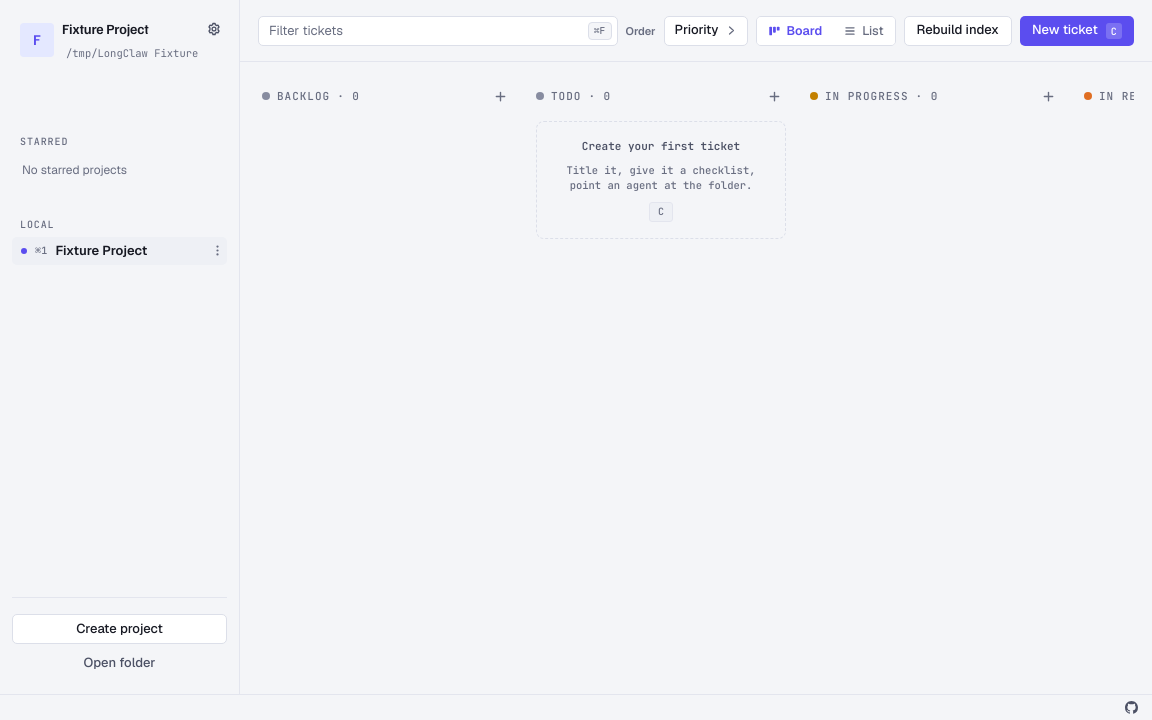
it: optimistic create, write feedback, and undo (V0-17) › sends the priority chosen in quick create, and shows it before the write returns
The width and height of the screenshot is (1152, 720).
Expected: the button "Board" is shown, x1=758 y1=16 x2=833 y2=44
Click the button "New ticketC". click: (1077, 30)
box: x1=1020 y1=16 x2=1134 y2=46
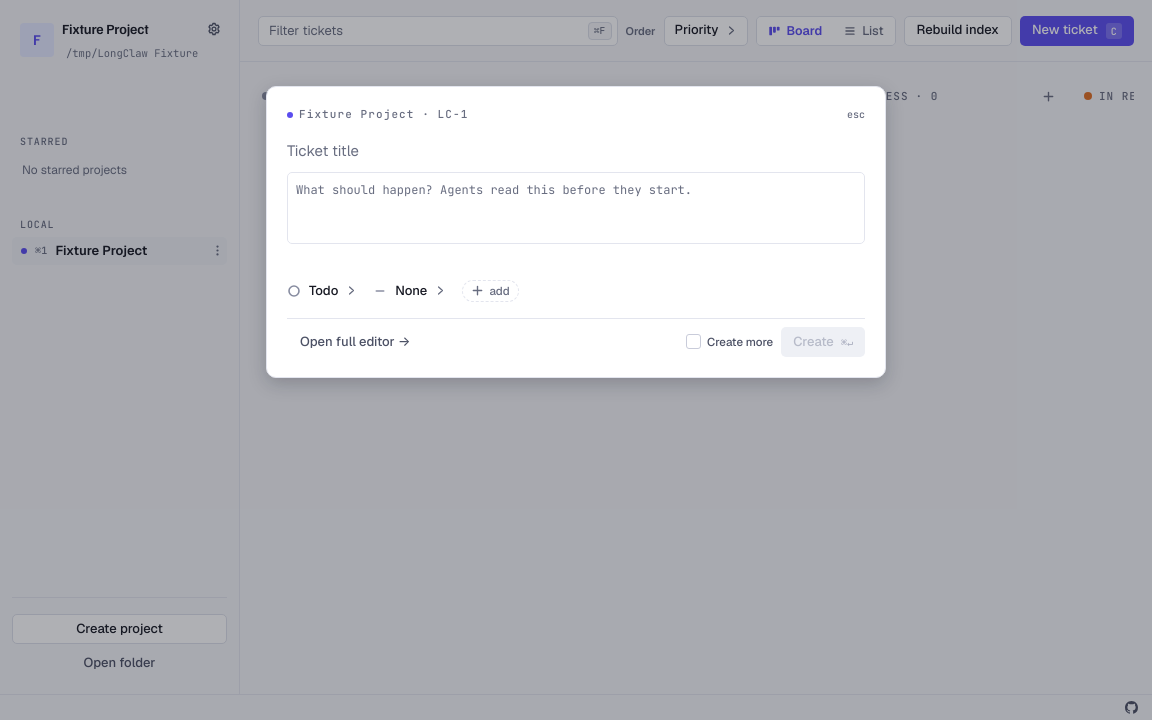
Type "Prove the round trip" into the field labelled "title". click: (576, 150)
box: x1=287 y1=141 x2=865 y2=160
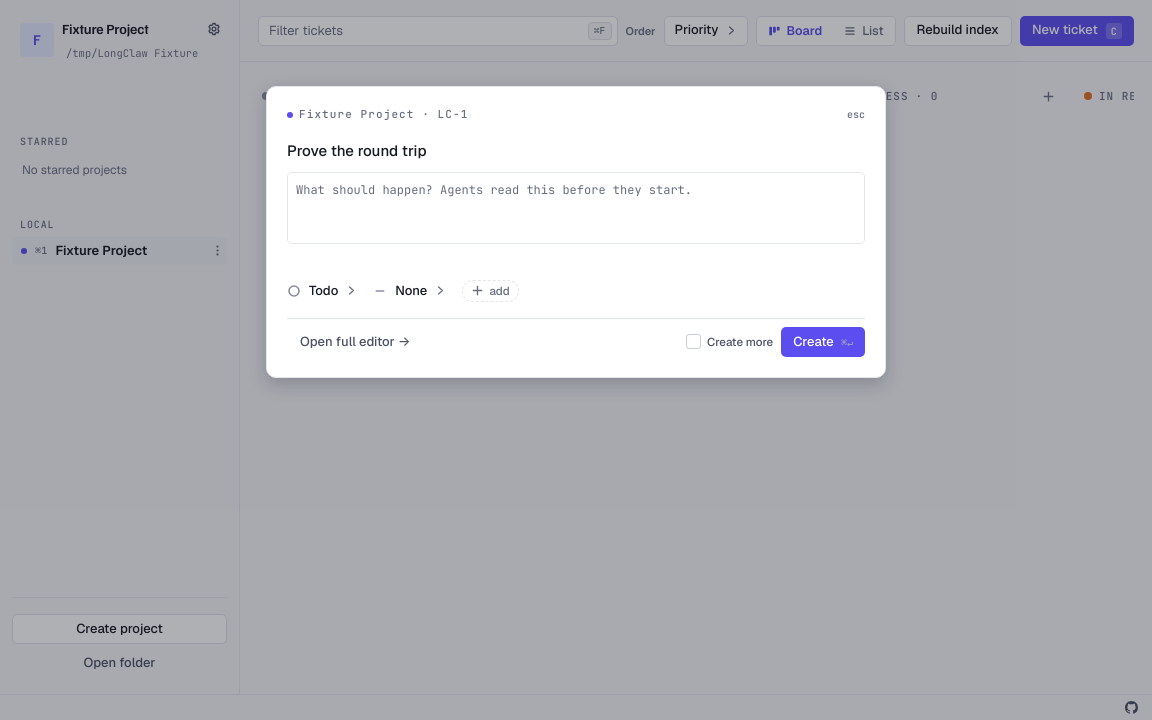
Click the button with aria-label "Priority: ". click: (410, 291)
box: x1=373 y1=276 x2=446 y2=306
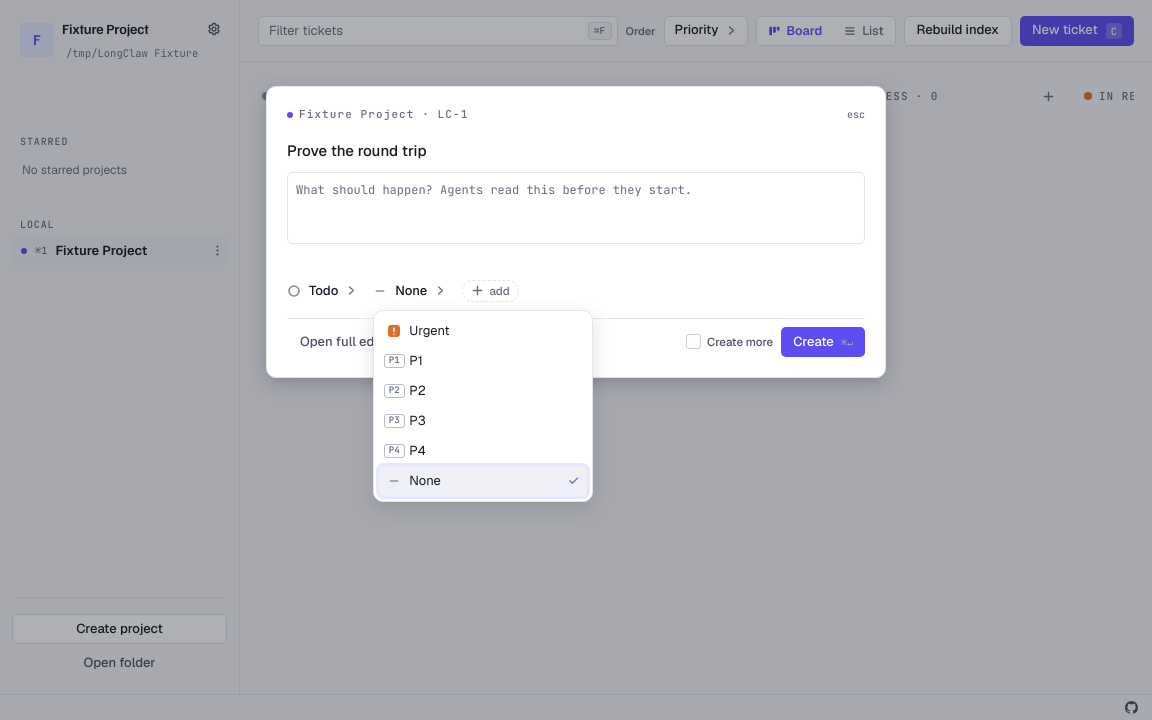
Click the menu item "Urgent". click: (483, 331)
box: x1=379 y1=316 x2=587 y2=346
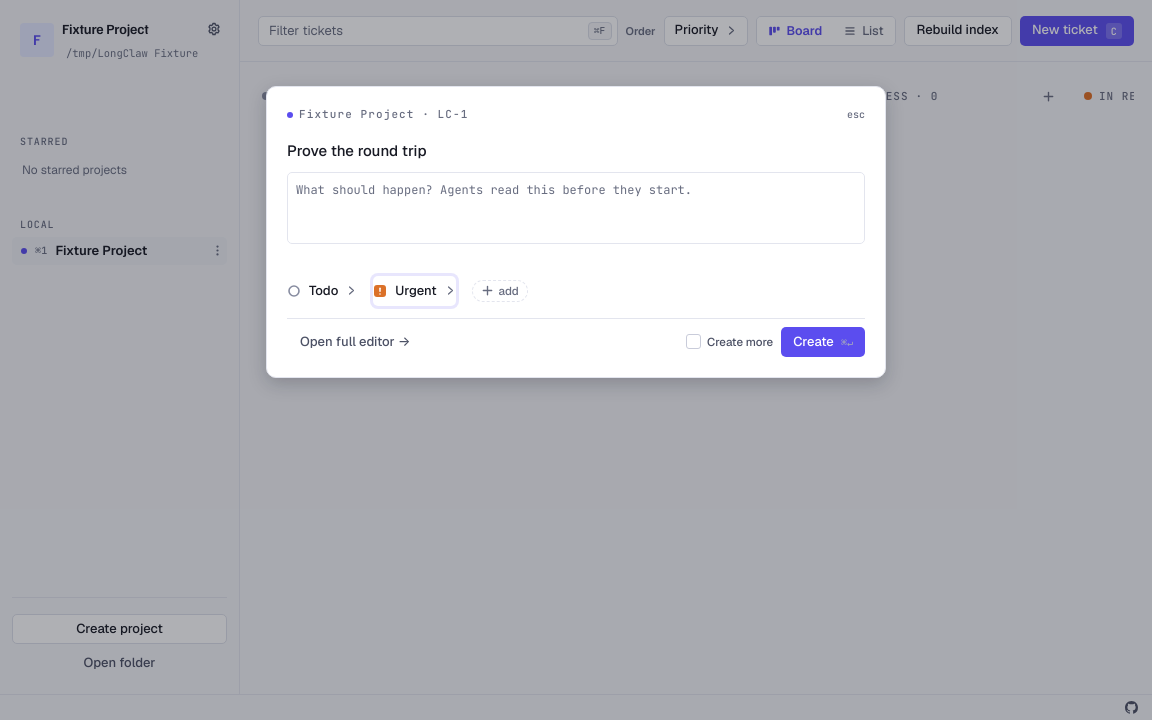
Click the button "Create ⌘↵". click: (823, 342)
box: x1=781 y1=327 x2=865 y2=357
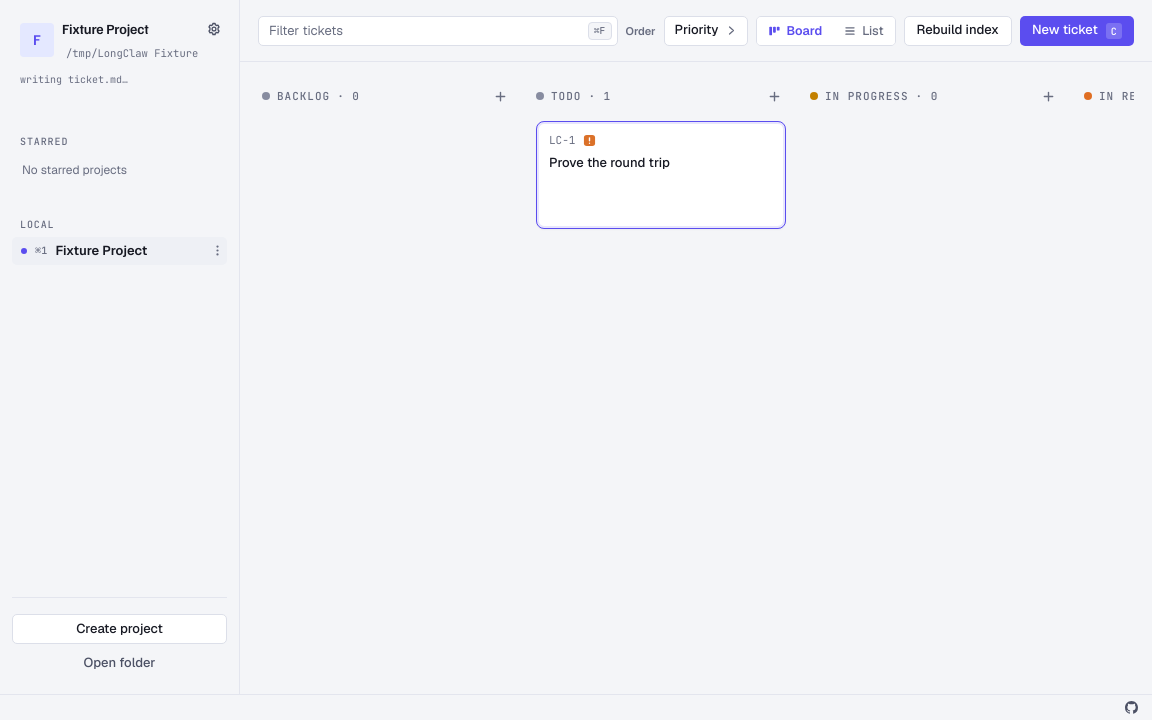
Expected: the picture named "Priority: Urgent" is shown, x1=583 y1=134 x2=596 y2=146
